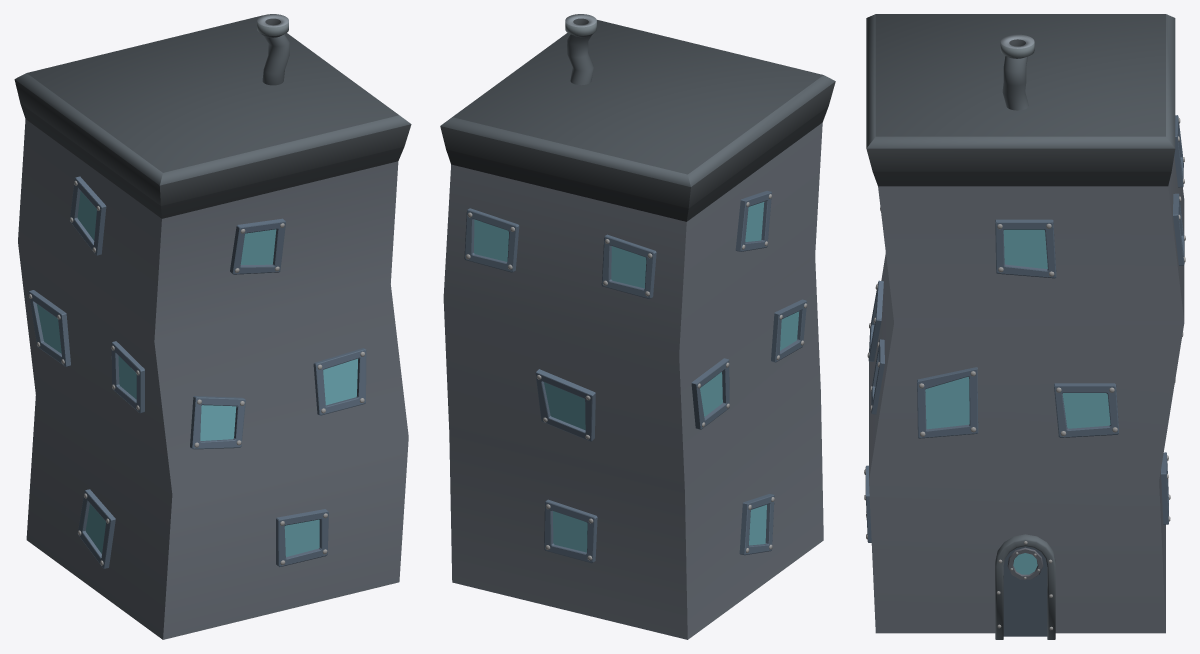
Rendered from building3.fbx.
3 renders of one model, left to right at view 1: azimuth 30°, elevation 25°; view 2: azimuth 150°, elevation 25°; view 3: azimuth 270°, elevation 25°, orthographic. The views are drawn at different scales.
Visible parts, largest first — view 1: sb_bb_bbox1; view 2: sb_bb_bbox1; view 3: sb_bb_bbox1.
Boxes of the visible parts, left/top/right/bottom form: sb_bb_bbox1: left=14, top=14, right=411, bottom=639; sb_bb_bbox1: left=440, top=14, right=835, bottom=639; sb_bb_bbox1: left=864, top=14, right=1185, bottom=639.
Bounding box in the file's own units: 218 × 426 × 222.
Materials: 1 (1 with a texture image).
